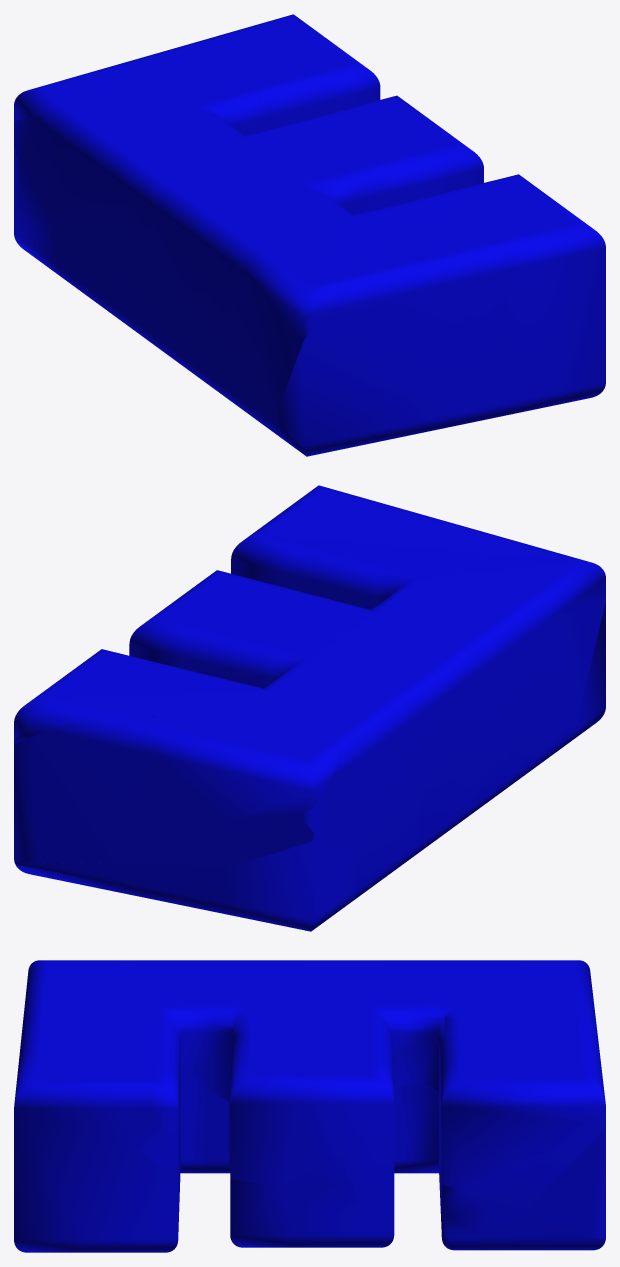
Rendered from ebis.fbx.
3 views of the same model, one above another, from view 1: azimuth 30°, elevation 25°; view 2: azimuth 150°, elevation 25°; view 3: azimuth 270°, elevation 25° (orthographic). The views are drawn at different scales.
Visible parts, largest first — view 1: e_cell.059, e_cell.062, e_cell.068, e_cell.090, e_cell.105, e_cell.077, e_cell.100, e_cell.078, e_cell.093, e_cell.103, e_cell.099, e_cell.083 (+17 smaller); view 2: e_cell.098, e_cell.099, e_cell.071, e_cell.093, e_cell.090, e_cell.105, e_cell.073, e_cell.077, e_cell.078, e_cell.091, e_cell.083, e_cell.085 (+18 smaller); view 3: e_cell.059, e_cell.070, e_cell.064, e_cell.103, e_cell.093, e_cell.091, e_cell.107, e_cell.074, e_cell.086, e_cell.099, e_cell.083, e_cell.077 (+22 smaller).
Boxes of the visible parts, x1=… form: e_cell.059: x1=503, y1=196, x2=605, y2=415; e_cell.062: x1=275, y1=329, x2=456, y2=456; e_cell.068: x1=312, y1=238, x2=467, y2=381; e_cell.090: x1=154, y1=190, x2=283, y2=325; e_cell.105: x1=224, y1=244, x2=337, y2=416; e_cell.077: x1=125, y1=136, x2=293, y2=236; e_cell.100: x1=444, y1=243, x2=506, y2=426; e_cell.078: x1=43, y1=109, x2=142, y2=211; e_cell.093: x1=383, y1=178, x2=548, y2=247; e_cell.103: x1=369, y1=128, x2=483, y2=205; e_cell.099: x1=14, y1=46, x2=200, y2=121; e_cell.083: x1=125, y1=58, x2=262, y2=152; e_cell.098: x1=14, y1=717, x2=155, y2=863; e_cell.099: x1=149, y1=713, x2=339, y2=820; e_cell.071: x1=115, y1=712, x2=228, y2=914; e_cell.093: x1=252, y1=508, x2=436, y2=609; e_cell.090: x1=422, y1=594, x2=546, y2=734; e_cell.105: x1=508, y1=556, x2=605, y2=719; e_cell.073: x1=224, y1=839, x2=356, y2=931; e_cell.077: x1=297, y1=631, x2=455, y2=739; e_cell.078: x1=311, y1=690, x2=427, y2=811; e_cell.091: x1=375, y1=546, x2=524, y2=611; e_cell.083: x1=165, y1=681, x2=385, y2=717; e_cell.085: x1=179, y1=618, x2=299, y2=688; e_cell.059: x1=14, y1=1048, x2=128, y2=1252; e_cell.070: x1=440, y1=1053, x2=605, y2=1190; e_cell.064: x1=295, y1=1048, x2=394, y2=1184; e_cell.103: x1=230, y1=1036, x2=314, y2=1186; e_cell.093: x1=35, y1=1017, x2=180, y2=1137; e_cell.091: x1=73, y1=970, x2=224, y2=1076; e_cell.107: x1=77, y1=1143, x2=179, y2=1252; e_cell.074: x1=440, y1=1031, x2=605, y2=1209; e_cell.086: x1=291, y1=1176, x2=394, y2=1247; e_cell.099: x1=486, y1=960, x2=597, y2=1036; e_cell.083: x1=393, y1=967, x2=549, y2=1043; e_cell.077: x1=263, y1=960, x2=394, y2=1021.
Bounding box in the file's own units: 1772 × 1003 × 3177.
